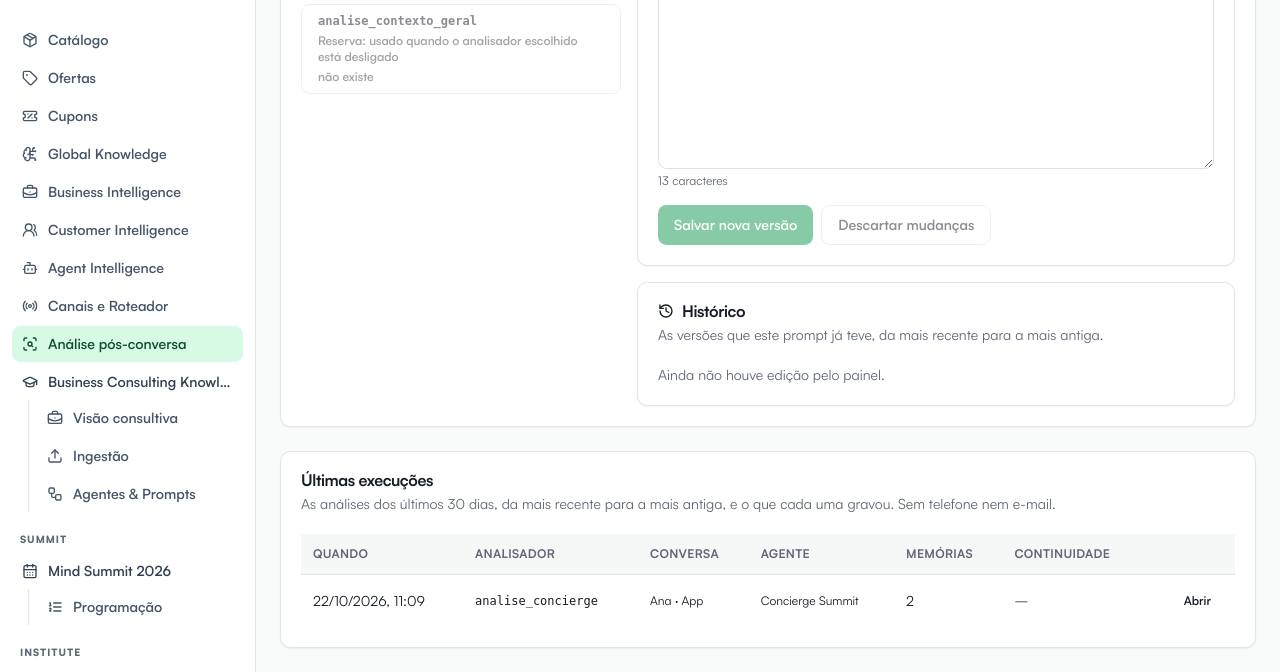
Scenario: Análise pós-conversa › mostra os prompts com estado, abre o classificador para editar e lista as execuções
(page scrolled)
Click the button "Abrir" at (1197, 600), box [1172,584,1223,616]
(page scrolled)
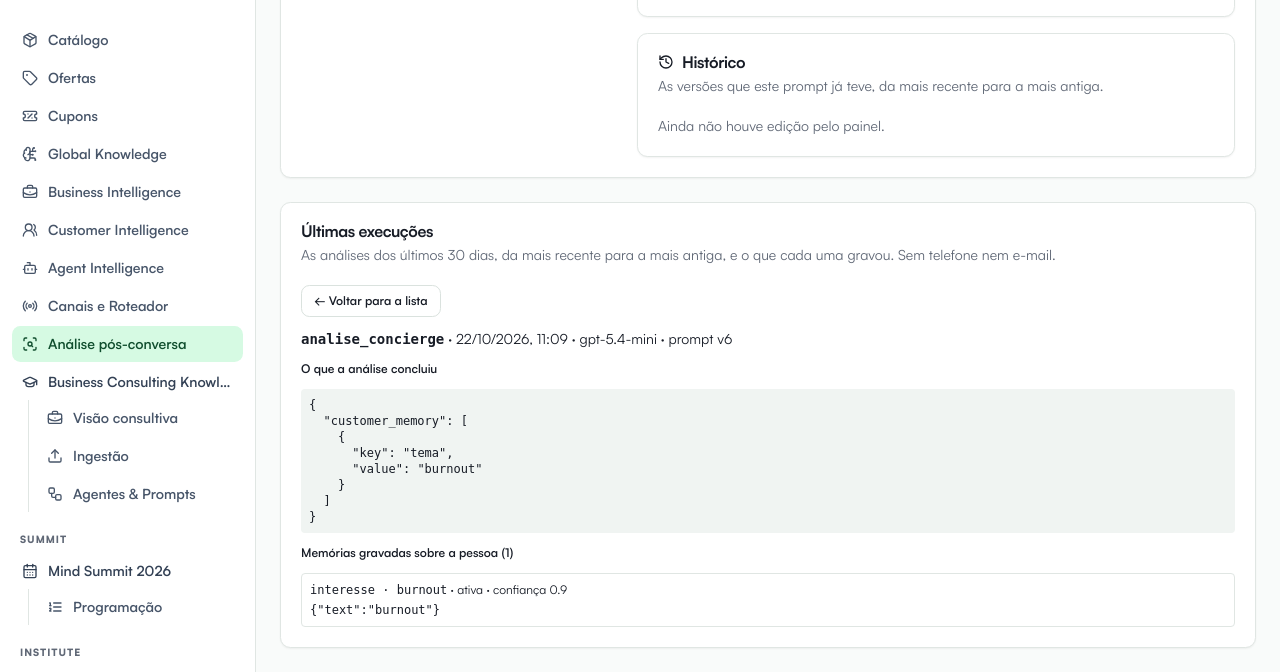
Expected: the text named "Conclusão da análise" shows "burnout", [309,398,482,524]
Expected: the list named "Memórias gravadas" shows "interesse · burnout", [301,573,1235,627]
